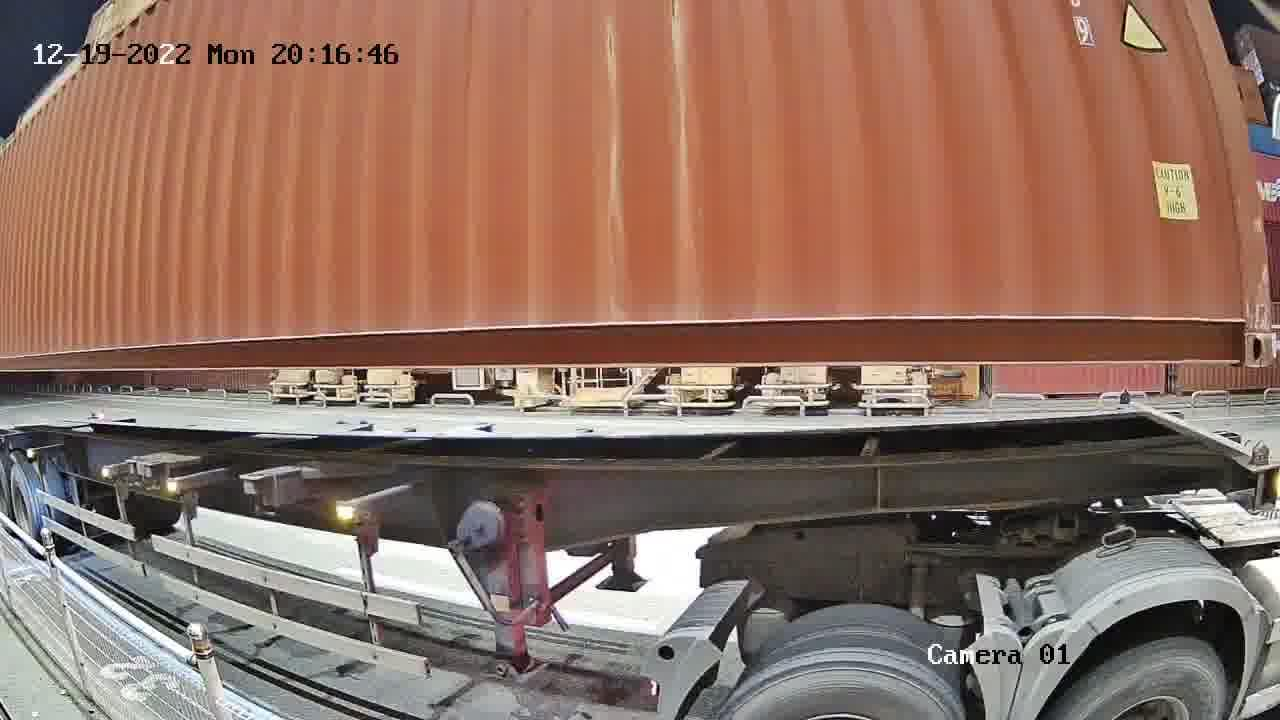Chassis: (1114, 405, 1276, 473)
Cone: (1248, 440, 1274, 507), (1111, 384, 1136, 406)
Hole_R: (1181, 288, 1275, 363)
Tire: (723, 656, 957, 715), (1057, 641, 1225, 714)
